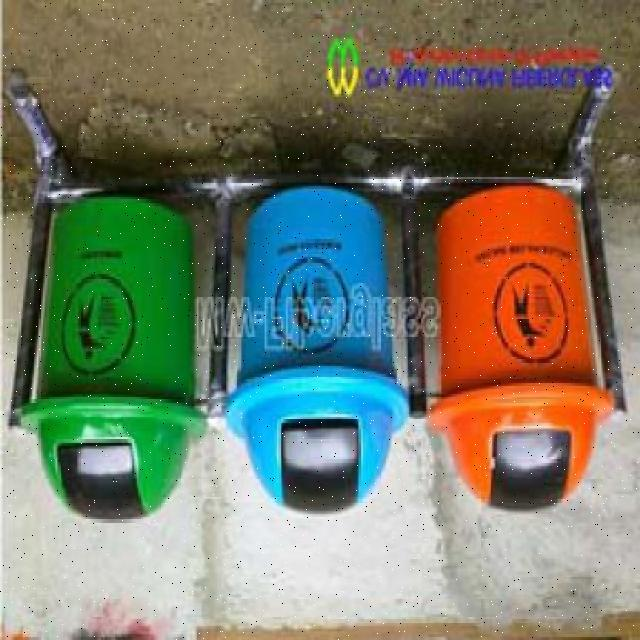garbage container: (14, 176, 217, 533), (219, 175, 418, 528), (425, 170, 622, 519)
